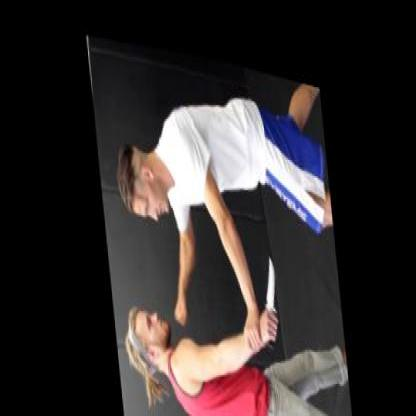knife: (250, 232, 280, 339)
